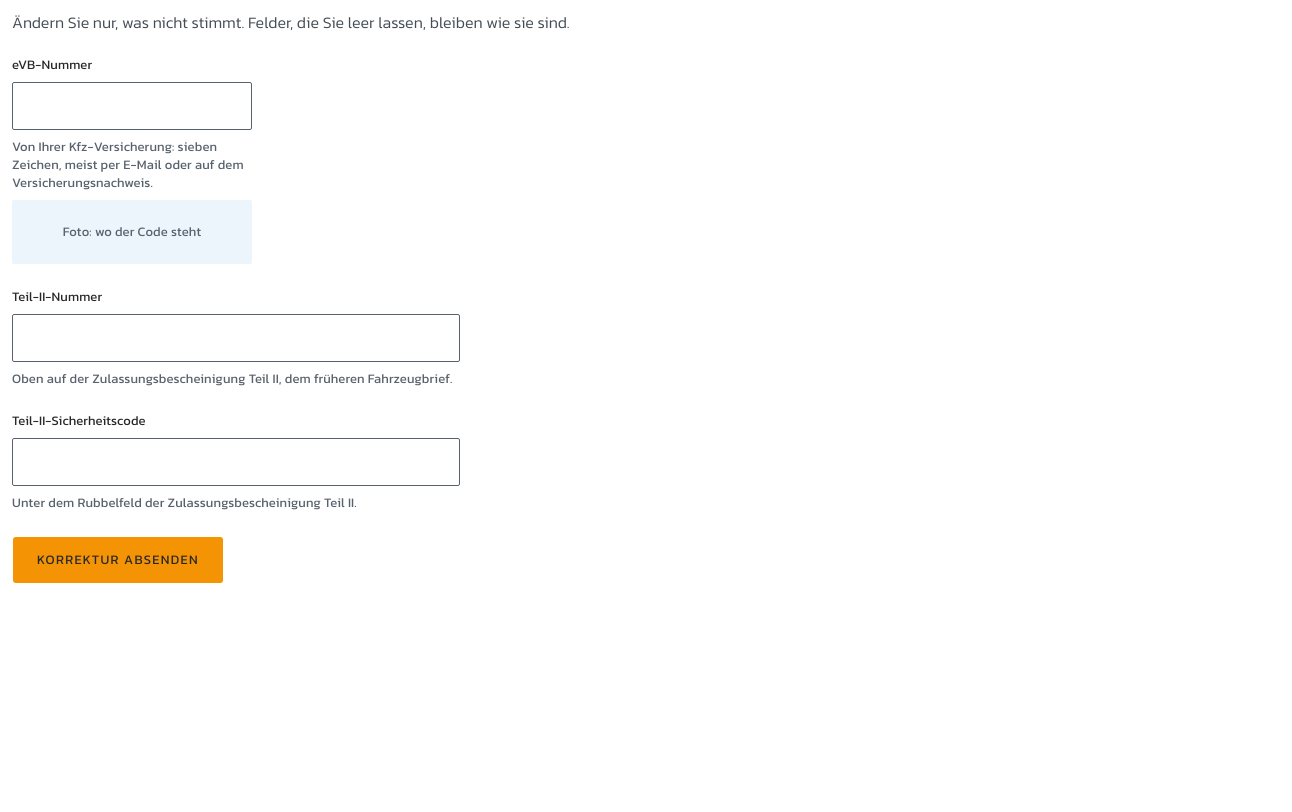
CorrectNewRegistration › tells the customer {"status":"unavailable"}, and leaves what they typed
Type "FAKE0002" into the field labelled "Teil-II-Nummer" at x=236, y=338, box [12, 314, 460, 362]
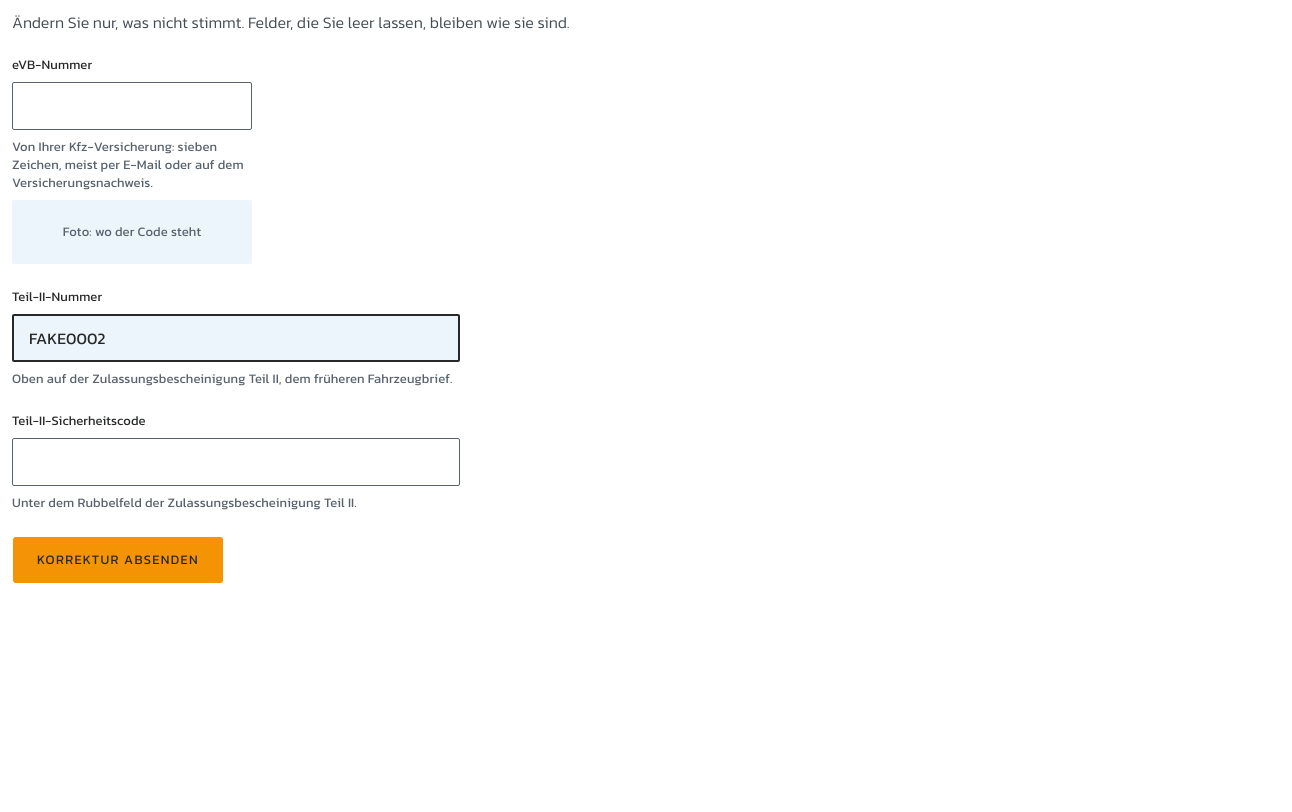
Click the button "Korrektur absenden" at x=118, y=560, box [12, 536, 224, 584]
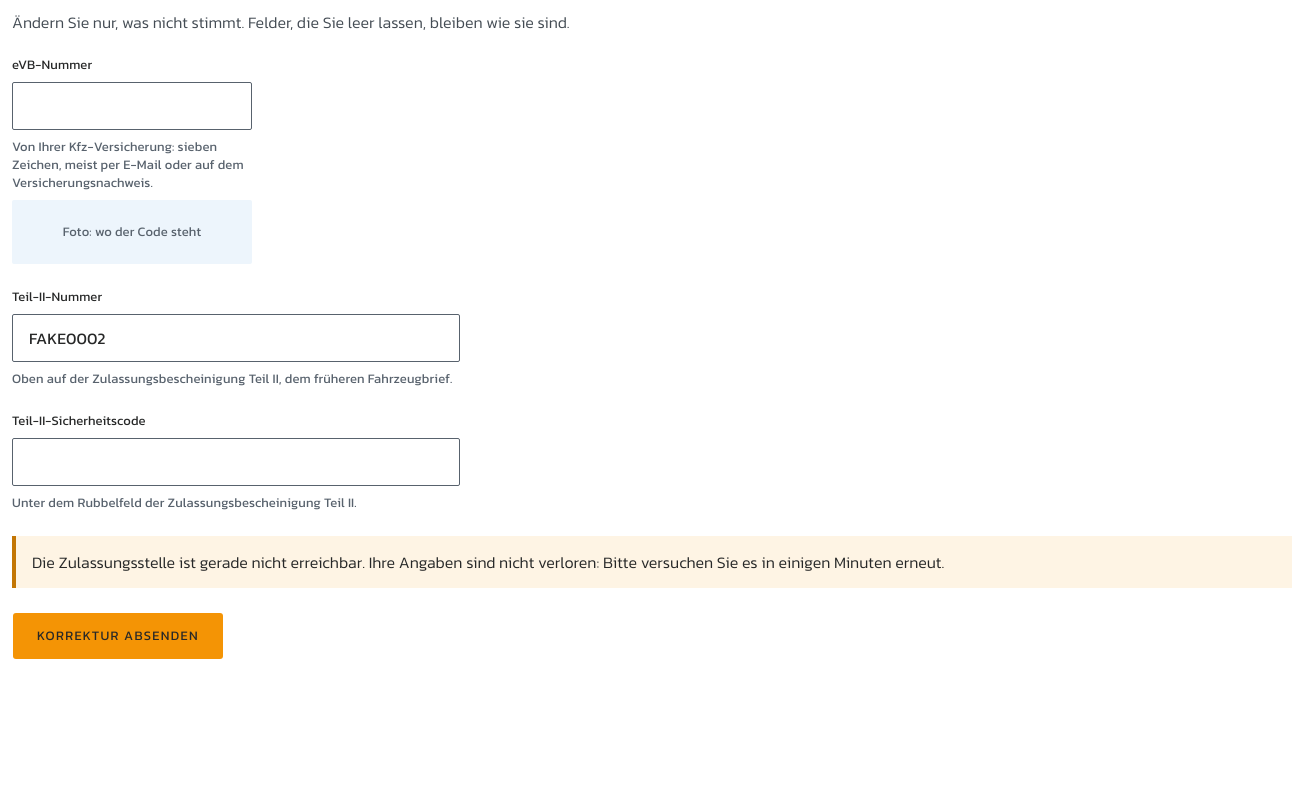
Now the message shows "nicht erreichbar", box [32, 550, 944, 574]
